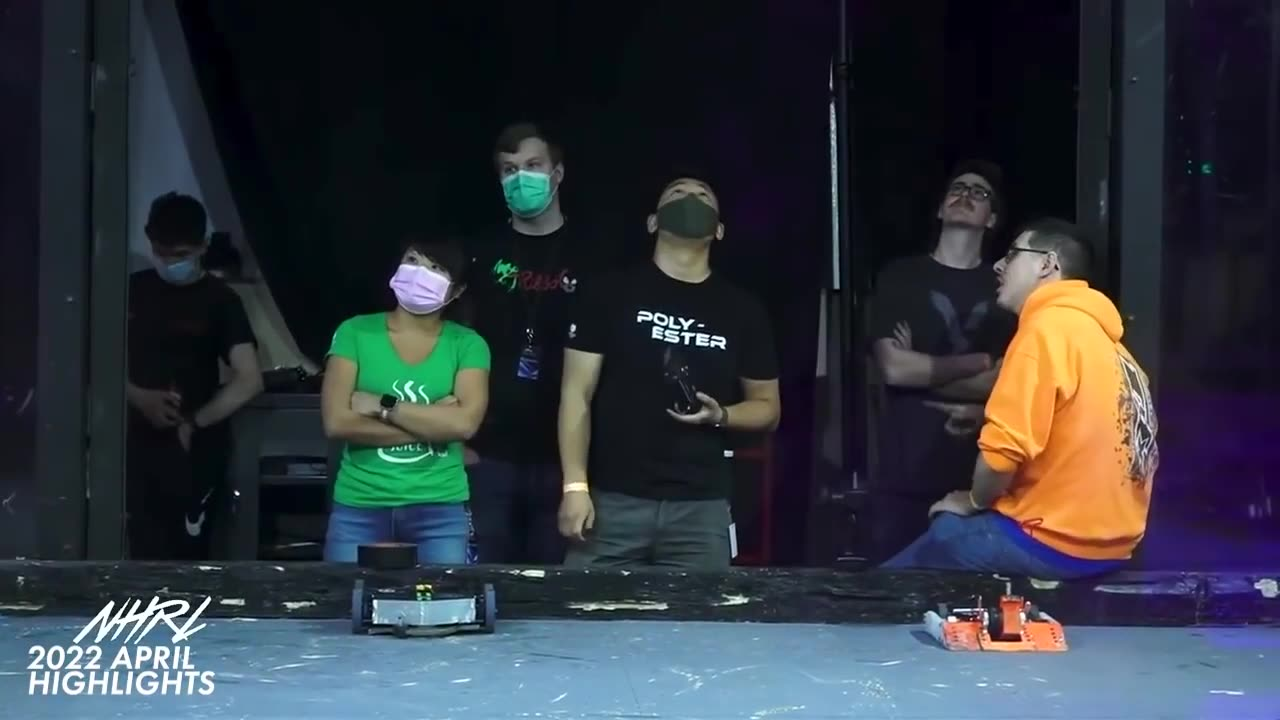combatbot: (919, 584, 1068, 653), (352, 575, 499, 640)
